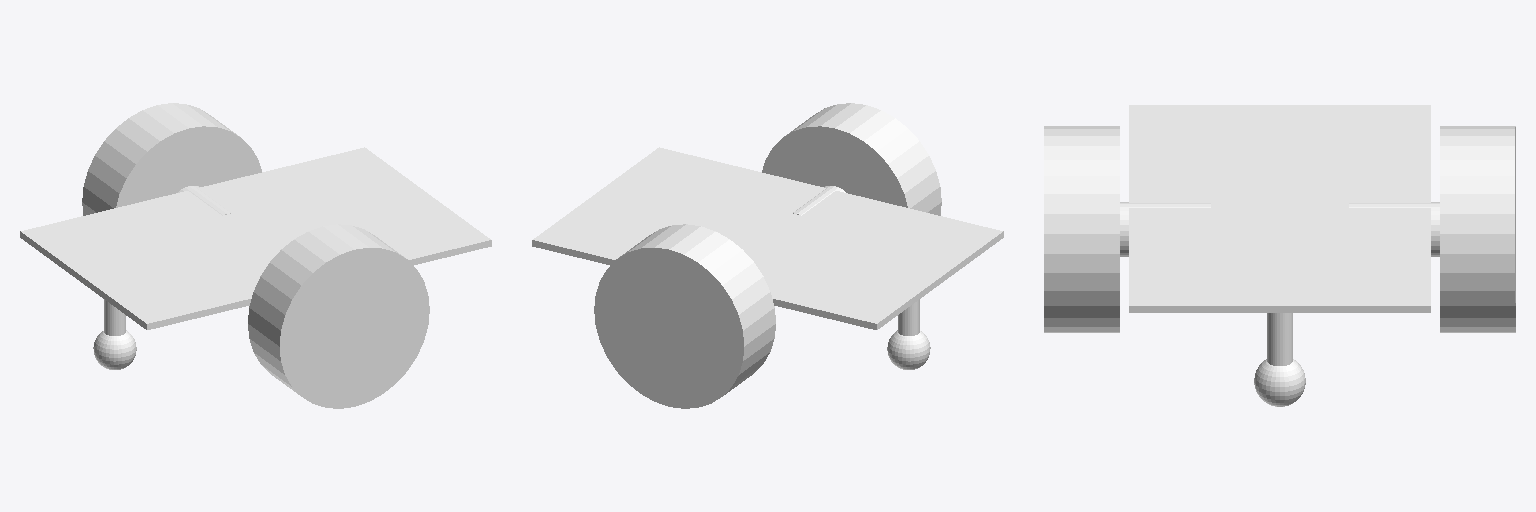
URDF robot description (fobo2):
<?xml version="1.0" ?>
<!-- =================================================================================== -->
<!-- |    This document was autogenerated by xacro from urdf/fobo2.xacro               | -->
<!-- |    EDITING THIS FILE BY HAND IS NOT RECOMMENDED                                 | -->
<!-- =================================================================================== -->
<robot xmlns:xacro="http://www.ros.org/wiki/xacro" name="fobo2">
  <!-- Define parameters of chassis -->
  <!-- Motor cylinder parameters -->
  <!-- wheel parameters -->
  <!-- Ball parameters -->
  <!-- Stick length can't be automatically calculated -->
  <!-- define colors -->
  <material name="white">
    <color rgba="1 1 1 1"/>
  </material>
  <material name="black">
    <color rgba="0 0 0 1"/>
  </material>
  <material name="red">
    <color rgba="1 0 0 1"/>
  </material>
  <!-- link macros -->
  <!-- Define links joints macros  -->
  <!-- Base link -->
  <link name="base_link">
    <visual>
      <geometry>
        <box size="0.55 0.35 0.01"/>
      </geometry>
      <origin rpy="0 0 0" xyz="0 0 0"/>
      <material name="white">
        <!-- <color rgba="1 1 1 1"/> -->
      </material>
    </visual>
    <collision>
      <geometry>
        <box size="0.55 0.35 0.01"/>
      </geometry>
      <origin rpy="0 0 0" xyz="0 0 0"/>
    </collision>
    <inertial>
      <mass value="1"/>
      <inertia ixx="0.010216666666666666" ixy="0" ixz="0" iyy="0.02521666666666667" iyz="0" izz="0.02521666666666667"/>
    </inertial>
  </link>
  <!-- Motor links -->
  <link name="motor-right">
    <visual>
      <geometry>
        <cylinder radius="0.032" length="0.105"/>
      </geometry>
      <origin rpy="0 0 0" xyz="0 0 0"/>
      <material name="white">
        <color rgba="1 1 1 1"/>
      </material>
    </visual>
    <collision>
      <geometry>
        <cylinder radius="0.032" length="0.105"/>
      </geometry>
      <origin rpy="0 0 0" xyz="0 0 0"/>
    </collision>
    <inertial>
      <mass value="1"/>
      <inertia ixx="0.0011747499999999998" ixy="0" ixz="0" iyy="0.0011747499999999998" iyz="0" izz="0.000512"/>
    </inertial>
  </link>
  <link name="motor-left">
    <visual>
      <geometry>
        <cylinder radius="0.032" length="0.105"/>
      </geometry>
      <origin rpy="0 0 0" xyz="0 0 0"/>
      <material name="white">
        <color rgba="1 1 1 1"/>
      </material>
    </visual>
    <collision>
      <geometry>
        <cylinder radius="0.032" length="0.105"/>
      </geometry>
      <origin rpy="0 0 0" xyz="0 0 0"/>
    </collision>
    <inertial>
      <mass value="1"/>
      <inertia ixx="0.0011747499999999998" ixy="0" ixz="0" iyy="0.0011747499999999998" iyz="0" izz="0.000512"/>
    </inertial>
  </link>
  <!-- Wheel links -->
  <link name="wheel-right">
    <visual>
      <geometry>
        <cylinder radius="0.12" length="0.088"/>
      </geometry>
      <origin rpy="0 0 0" xyz="0 0 0"/>
      <material name="black">
        <color rgba="1 1 1 1"/>
      </material>
    </visual>
    <collision>
      <geometry>
        <cylinder radius="0.12" length="0.088"/>
      </geometry>
      <origin rpy="0 0 0" xyz="0 0 0"/>
    </collision>
    <inertial>
      <mass value="1"/>
      <inertia ixx="0.004245333333333333" ixy="0" ixz="0" iyy="0.004245333333333333" iyz="0" izz="0.0072"/>
    </inertial>
  </link>
  <link name="wheel-left">
    <visual>
      <geometry>
        <cylinder radius="0.12" length="0.088"/>
      </geometry>
      <origin rpy="0 0 0" xyz="0 0 0"/>
      <material name="black">
        <color rgba="1 1 1 1"/>
      </material>
    </visual>
    <collision>
      <geometry>
        <cylinder radius="0.12" length="0.088"/>
      </geometry>
      <origin rpy="0 0 0" xyz="0 0 0"/>
    </collision>
    <inertial>
      <mass value="1"/>
      <inertia ixx="0.004245333333333333" ixy="0" ixz="0" iyy="0.004245333333333333" iyz="0" izz="0.0072"/>
    </inertial>
  </link>
  <!-- Ball links -->
  <link name="stick-front">
    <visual>
      <geometry>
        <cylinder radius="0.015" length="0.102"/>
      </geometry>
      <origin rpy="0 0 0" xyz="0 0 0"/>
      <material name="black">
        <color rgba="1 1 1 1"/>
      </material>
    </visual>
    <collision>
      <geometry>
        <cylinder radius="0.015" length="0.102"/>
      </geometry>
      <origin rpy="0 0 0" xyz="0 0 0"/>
    </collision>
    <inertial>
      <mass value="0.015"/>
      <inertia ixx="1.3848749999999998e-05" ixy="0" ixz="0" iyy="1.3848749999999998e-05" iyz="0" izz="1.6875e-06"/>
    </inertial>
  </link>
  <link name="stick-back">
    <visual>
      <geometry>
        <cylinder radius="0.015" length="0.102"/>
      </geometry>
      <origin rpy="0 0 0" xyz="0 0 0"/>
      <material name="black">
        <color rgba="1 1 1 1"/>
      </material>
    </visual>
    <collision>
      <geometry>
        <cylinder radius="0.015" length="0.102"/>
      </geometry>
      <origin rpy="0 0 0" xyz="0 0 0"/>
    </collision>
    <inertial>
      <mass value="0.015"/>
      <inertia ixx="1.3848749999999998e-05" ixy="0" ixz="0" iyy="1.3848749999999998e-05" iyz="0" izz="1.6875e-06"/>
    </inertial>
  </link>
  <link name="ball-front">
    <visual>
      <geometry>
        <sphere radius="0.03"/>
      </geometry>
      <origin rpy="0 0 0" xyz="0 0 0"/>
      <material name="red">
        <color rgba="1 1 1 1"/>
      </material>
    </visual>
    <collision>
      <geometry>
        <sphere radius="0.03"/>
      </geometry>
      <origin rpy="0 0 0" xyz="0 0 0"/>
    </collision>
    <inertial>
      <mass value="1"/>
      <inertia ixx="0.00035999999999999997" ixy="0" ixz="0" iyy="0.00035999999999999997" iyz="0" izz="0.00035999999999999997"/>
    </inertial>
  </link>
  <link name="ball-back">
    <visual>
      <geometry>
        <sphere radius="0.03"/>
      </geometry>
      <origin rpy="0 0 0" xyz="0 0 0"/>
      <material name="red">
        <color rgba="1 1 1 1"/>
      </material>
    </visual>
    <collision>
      <geometry>
        <sphere radius="0.03"/>
      </geometry>
      <origin rpy="0 0 0" xyz="0 0 0"/>
    </collision>
    <inertial>
      <mass value="1"/>
      <inertia ixx="0.00035999999999999997" ixy="0" ixz="0" iyy="0.00035999999999999997" iyz="0" izz="0.00035999999999999997"/>
    </inertial>
  </link>
  <!-- Motor joints -->
  <joint name="motor-right-base" type="fixed">
    <parent link="base_link"/>
    <child link="motor-right"/>
    <origin xyz="0 0.1325 -0.026000000000000002" rpy="0 1.5707 1.5707"/>
  </joint>
  <joint name="motor-left-base" type="fixed">
    <parent link="base_link"/>
    <child link="motor-left"/>
    <origin xyz="0 -0.1325 -0.026000000000000002" rpy="0 1.5707 1.5707"/>
  </joint>
  <!-- Wheel joints -->
  <joint name="wheel-motor-right" type="continuous">
    <parent link="motor-right"/>
    <child link="wheel-right"/>
    <origin xyz="0 0 0.0965" rpy="0 0 0"/>
    <axis xyz="0 0 1"/>
  </joint>
  <joint name="wheel-motor-left" type="continuous">
    <parent link="motor-left"/>
    <child link="wheel-left"/>
    <origin xyz="0 0 -0.0965" rpy="0 0 0"/>
    <axis xyz="0 0 1"/>
  </joint>
  <!-- Ball joints -->
  <joint name="stick-front-base" type="fixed">
    <parent link="base_link"/>
    <child link="stick-front"/>
    <origin xyz="0.22500000000000003 0 -0.051" rpy="0 0 0"/>
  </joint>
  <joint name="stick-back-base" type="fixed">
    <parent link="base_link"/>
    <child link="stick-back"/>
    <origin xyz="-0.22500000000000003 0 -0.051" rpy="0 0 0"/>
  </joint>
  <joint name="ball-front-joint" type="floating">
    <parent link="base_link"/>
    <child link="ball-front"/>
    <origin xyz="0.22500000000000003 0 -0.115" rpy="0 0 0"/>
    <!-- <axis xyz="0 0 1"/>  -->
  </joint>
  <joint name="ball-back-joint" type="floating">
    <parent link="base_link"/>
    <child link="ball-back"/>
    <origin xyz="-0.22500000000000003 0 -0.115" rpy="0 0 0"/>
    <!-- <axis xyz="0 0 1"/>  -->
  </joint>
</robot>

--- Render facts (derived) ---
Views: 3 orthographic renders of the robot side by side, from view 1: azimuth 30°, elevation 25°; view 2: azimuth 150°, elevation 25°; view 3: azimuth 270°, elevation 25°.
Model fobo2 with 9 links and 8 joints (2 continuous, 4 fixed, 2 floating), rooted at base_link, posed every joint at zero.
Links seen in each view (by area): view 1: base_link, wheel-left, wheel-right, ball-back, stick-back; view 2: base_link, wheel-right, wheel-left, ball-back, stick-back; view 3: base_link, wheel-right, wheel-left, ball-front, stick-front, motor-right, motor-left.
Link boxes in pixels (left/top/right/bottom): base_link: left=20, top=147, right=491, bottom=329; wheel-left: left=248, top=224, right=429, bottom=408; wheel-right: left=82, top=103, right=261, bottom=215; ball-back: left=93, top=330, right=136, bottom=369; stick-back: left=104, top=299, right=125, bottom=335; base_link: left=532, top=147, right=1003, bottom=329; wheel-right: left=594, top=224, right=775, bottom=408; wheel-left: left=762, top=103, right=941, bottom=215; ball-back: left=887, top=330, right=930, bottom=369; stick-back: left=898, top=299, right=919, bottom=335; base_link: left=1129, top=105, right=1430, bottom=312; wheel-right: left=1440, top=126, right=1515, bottom=332; wheel-left: left=1044, top=126, right=1119, bottom=332; ball-front: left=1254, top=359, right=1305, bottom=406; stick-front: left=1267, top=313, right=1292, bottom=365; motor-right: left=1349, top=202, right=1439, bottom=256; motor-left: left=1120, top=202, right=1210, bottom=256.
Bounding box of the posed robot: 0.55 × 0.546 × 0.24 m (x, y, z).
Geometry: primitives only (box / cylinder / sphere), no mesh files.
